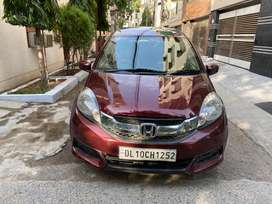DL10CH1252: (118, 147, 176, 161)
